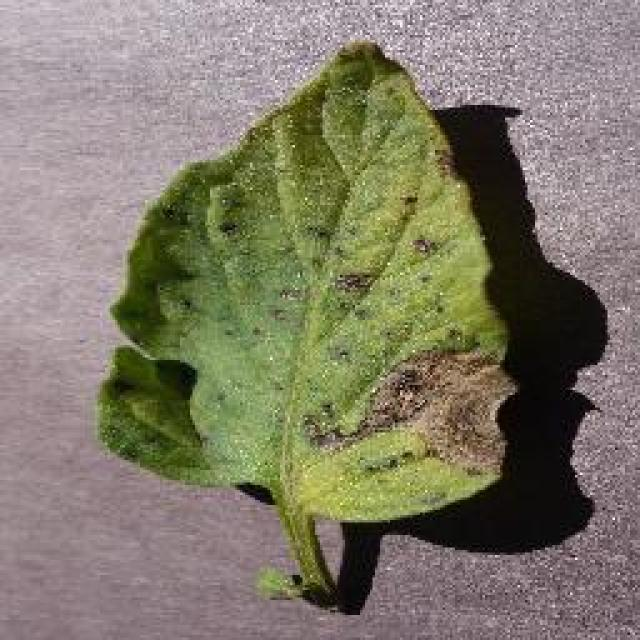Tomato___Early_blight: (92, 41, 530, 616)
